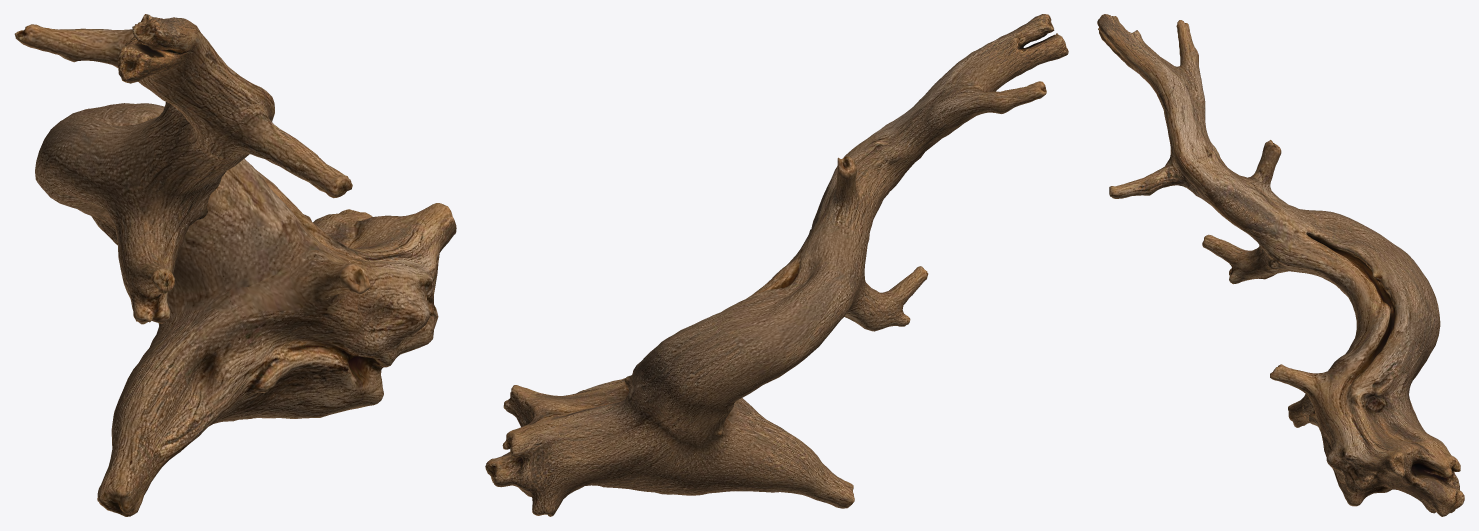
Rendered from driftwood_branch_01.glb.
3 renders of one model, left to right at view 1: azimuth 30°, elevation 25°; view 2: azimuth 150°, elevation 25°; view 3: azimuth 270°, elevation 25°, orthographic. The views are drawn at different scales.
Parts seen in each view (by area): view 1: tripo_node_900c1014-52d5-4f89-856e-e75238c01e32; view 2: tripo_node_900c1014-52d5-4f89-856e-e75238c01e32; view 3: tripo_node_900c1014-52d5-4f89-856e-e75238c01e32.
Part boxes in pixels (left/top/right/bottom): tripo_node_900c1014-52d5-4f89-856e-e75238c01e32: left=14, top=14, right=456, bottom=516; tripo_node_900c1014-52d5-4f89-856e-e75238c01e32: left=485, top=14, right=1068, bottom=516; tripo_node_900c1014-52d5-4f89-856e-e75238c01e32: left=1097, top=14, right=1464, bottom=516.
Bounding box in the file's own units: 0.998 × 0.998 × 0.8887.
1 material, 1 textured.
